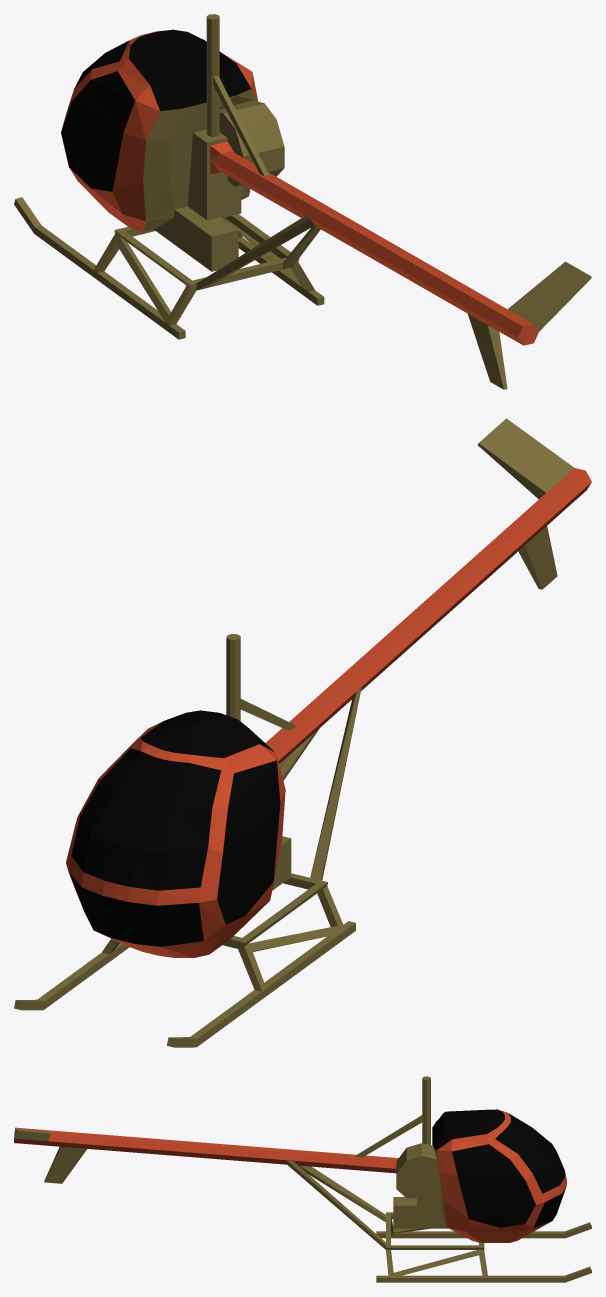
File: main.glb
The picture shows the model from 3 angles, top to bottom: view 1: azimuth 30°, elevation 25°; view 2: azimuth 150°, elevation 25°; view 3: azimuth 270°, elevation 25°; orthographic projection. The views are drawn at different scales.
Visible parts, largest first — view 1: Maxis-3d2-mesh-106; view 2: Maxis-3d2-mesh-106; view 3: Maxis-3d2-mesh-106.
Part boxes in pixels (<box>): Maxis-3d2-mesh-106: <box>14,14,591,389</box>; Maxis-3d2-mesh-106: <box>14,418,591,1047</box>; Maxis-3d2-mesh-106: <box>14,1076,591,1282</box>.
Bounding box in the file's own units: 1.26 × 2.29 × 6.62.
